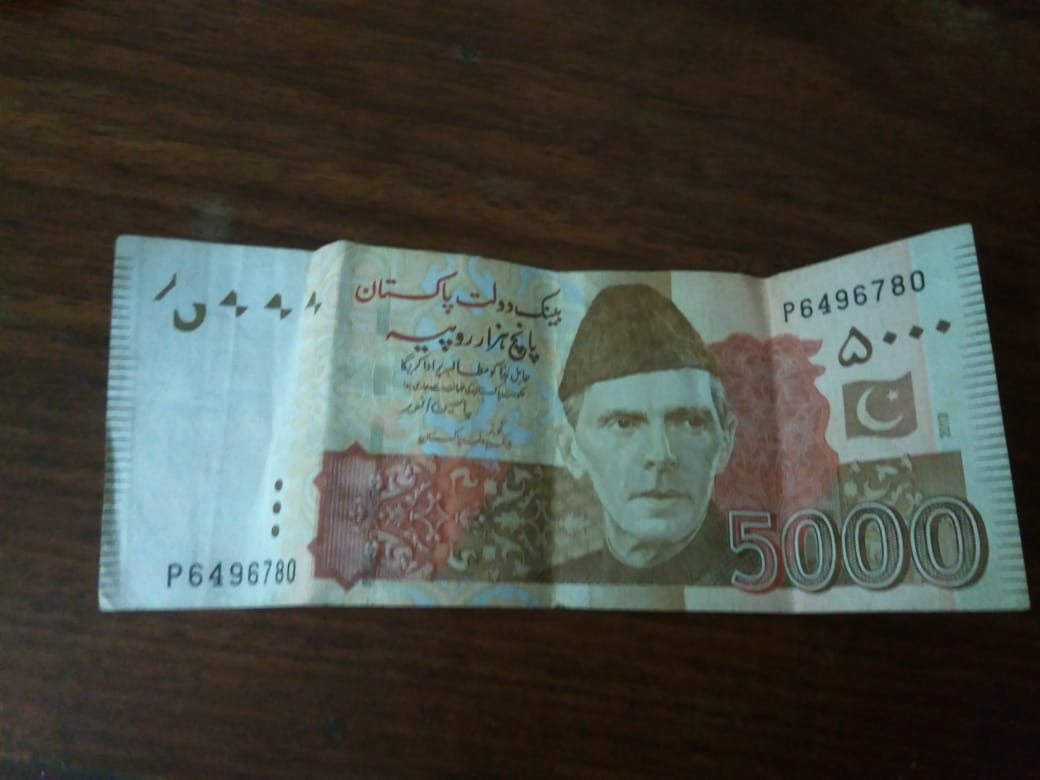5000 rupee: (82, 193, 1036, 689)
